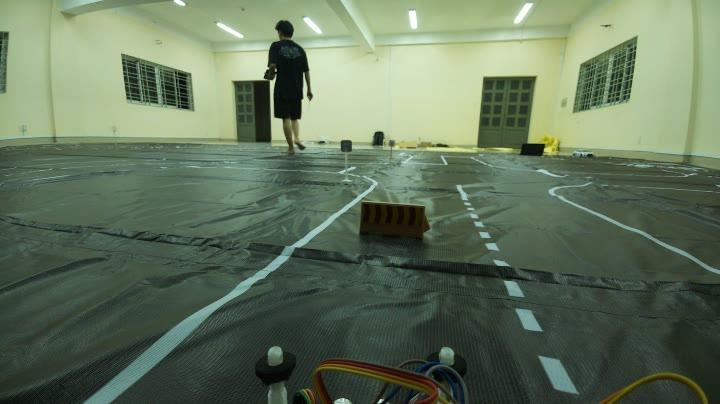roadblock: (352, 190, 442, 254)
